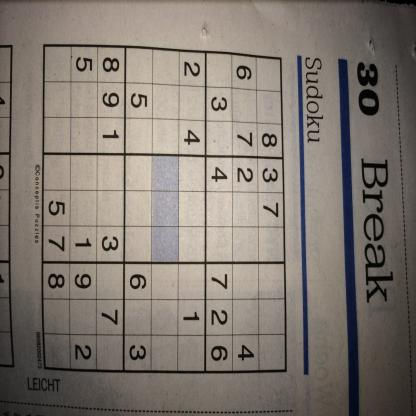sudoku: (38, 40, 290, 377)
